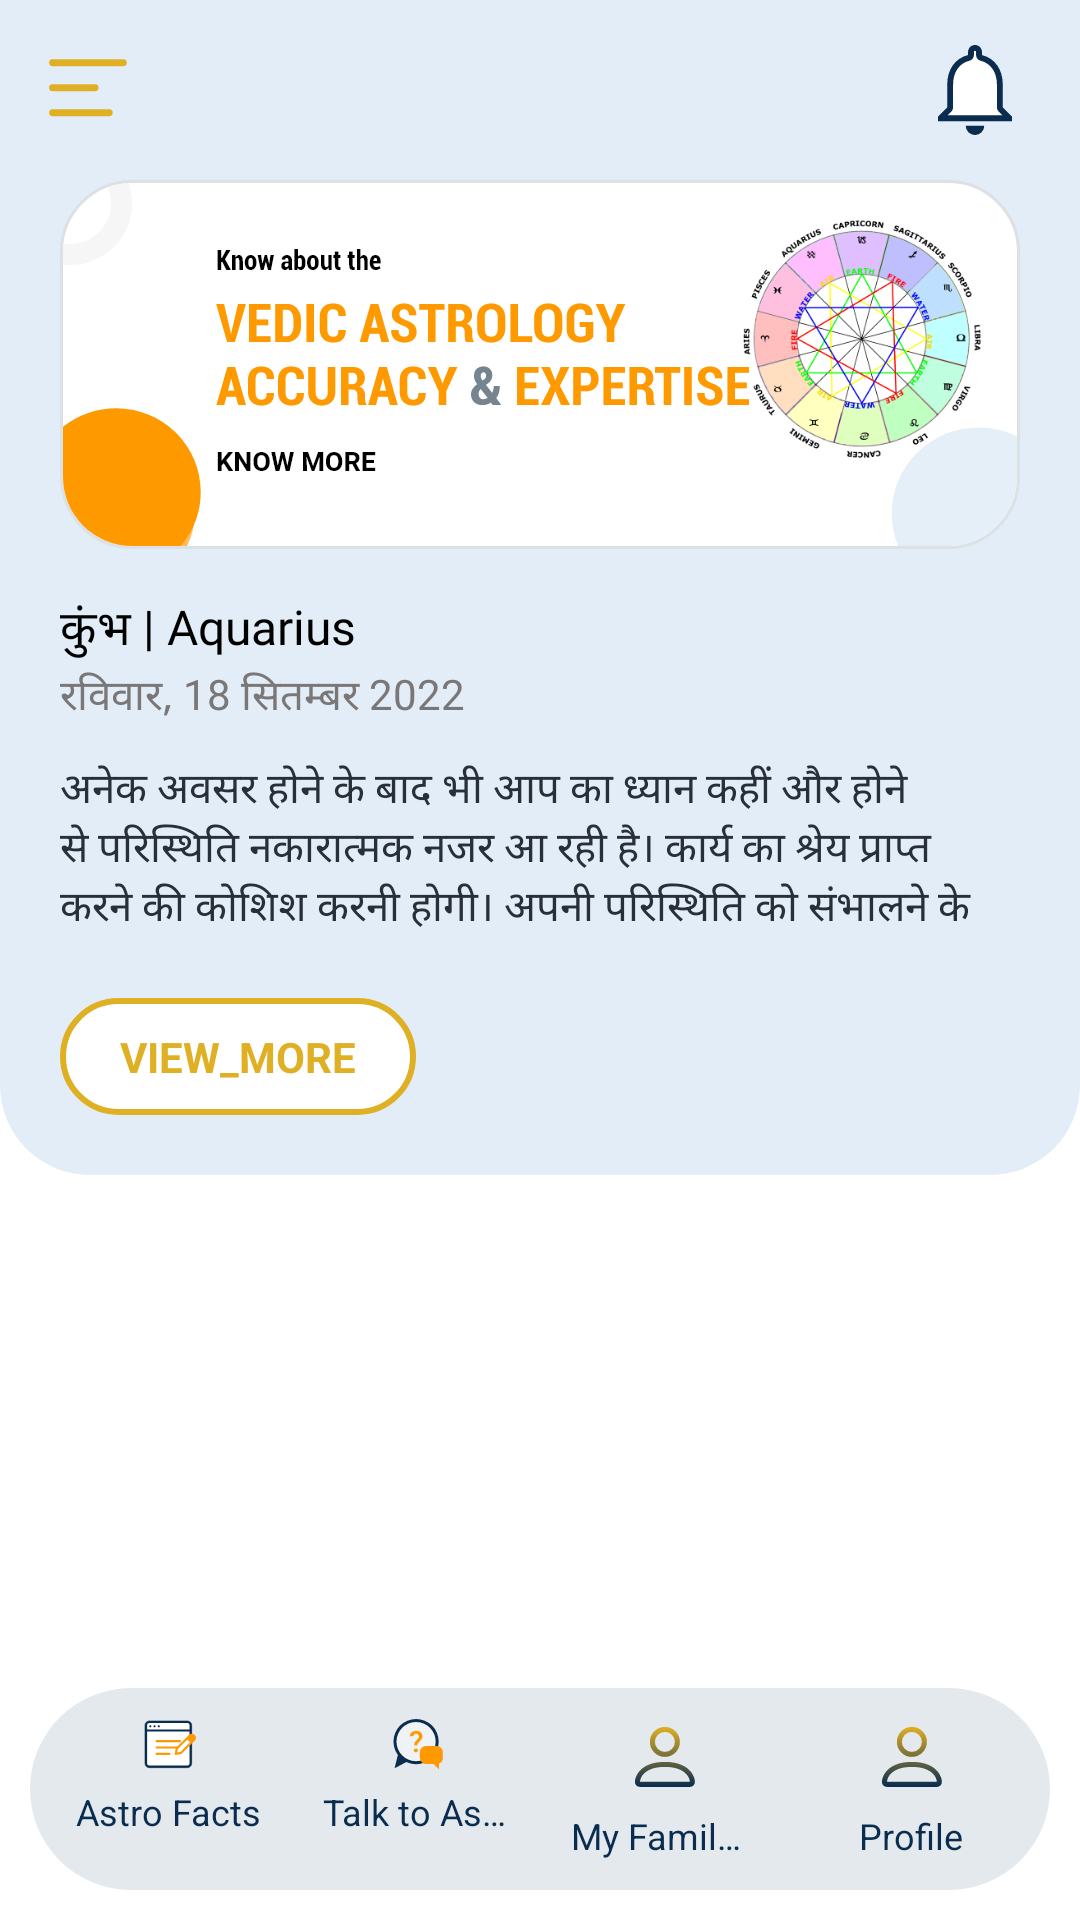

Screen size 1080px x 1920px. Icon name, then its box in pixels as (x1, y1, x2, y2):
menu: (49, 59, 127, 117)
notification: (938, 45, 1012, 135)
